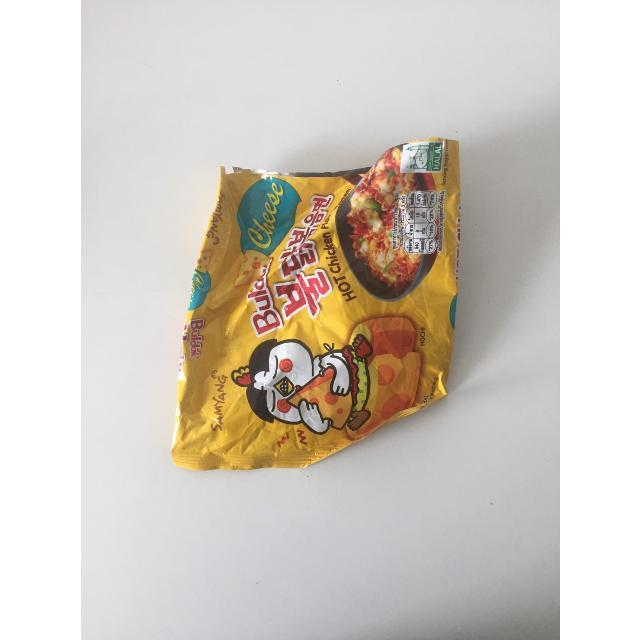Paquete de plastico: (167, 138, 463, 488)
